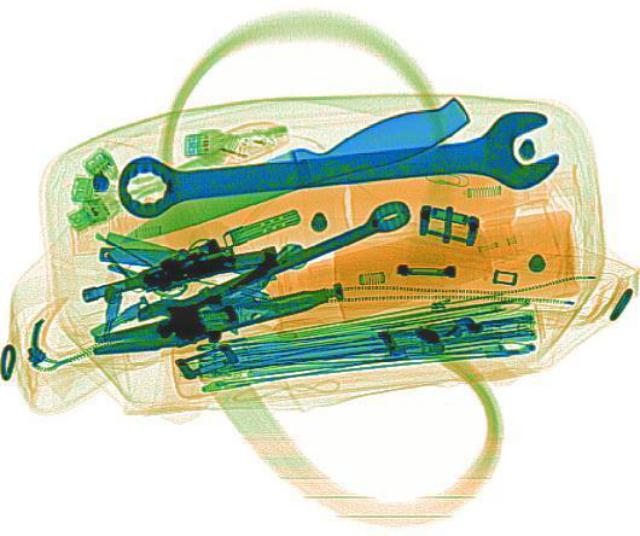Gun: (70, 225, 278, 303)
Knife: (105, 88, 477, 257)
Wrench: (130, 191, 418, 333)
